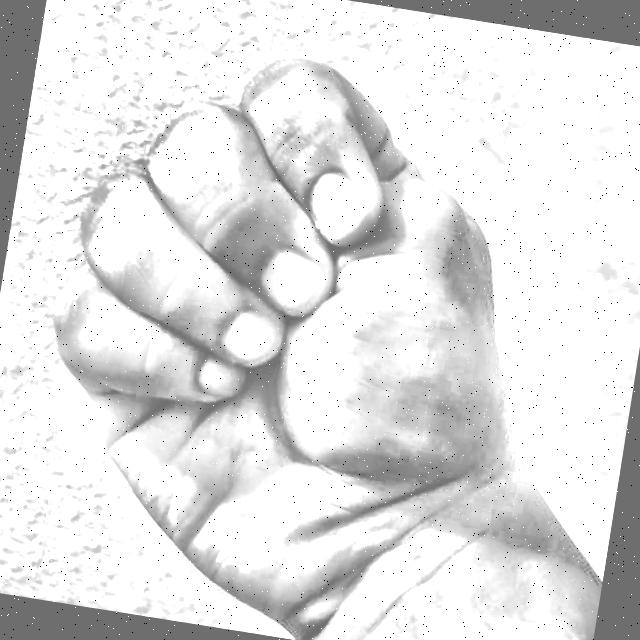To: (0, 0, 589, 640)
